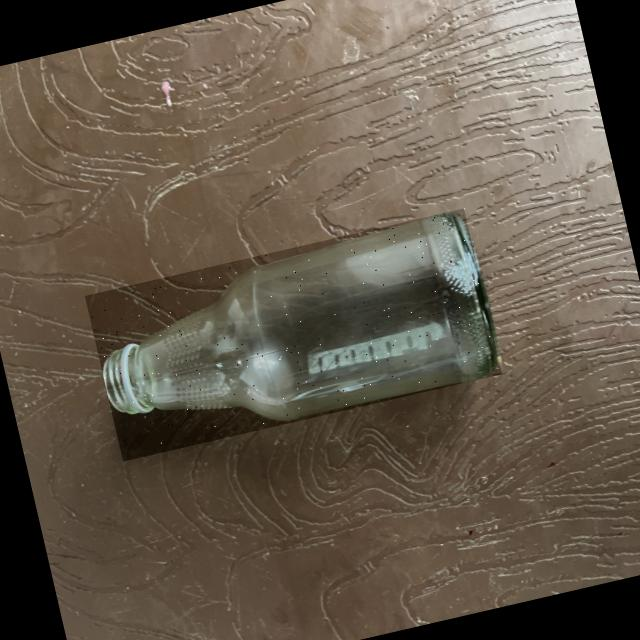Glass_Bottle: (103, 213, 497, 419)
